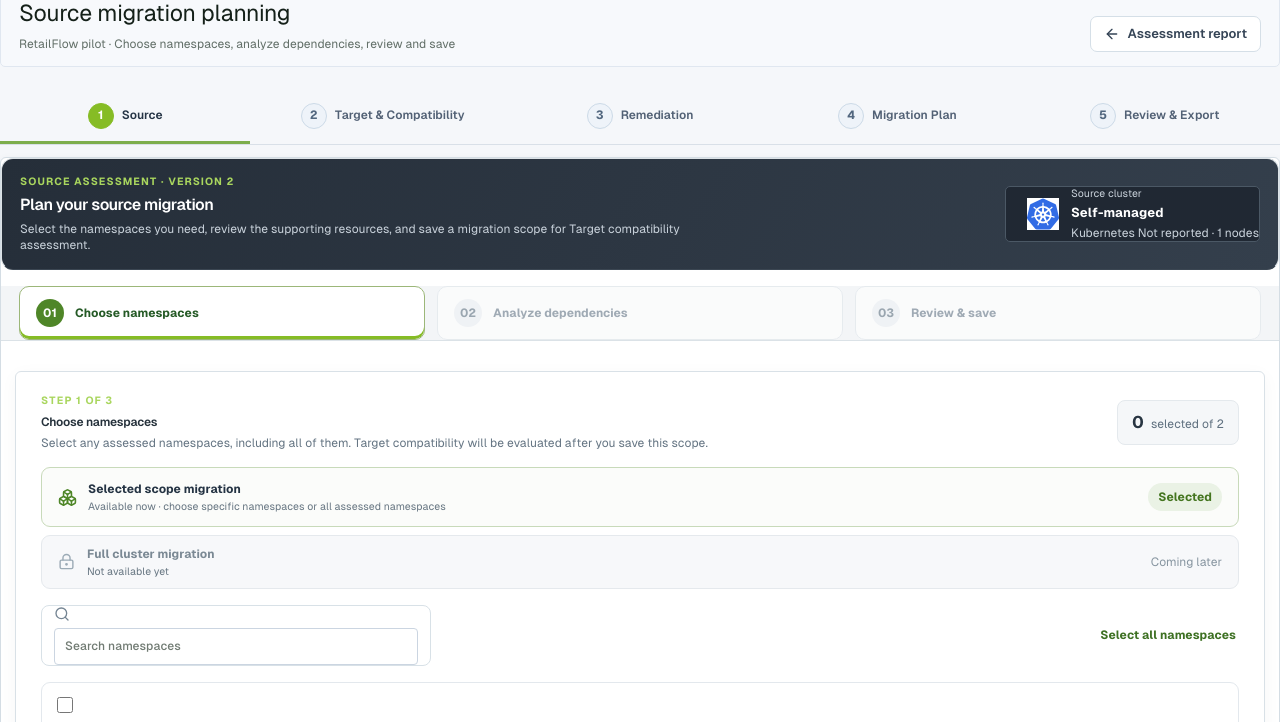
Test case: migration planning › supports analysis of multiple explicitly assessed namespaces
Click the button "Select all namespaces".
click(1168, 635)  # box left=1097, top=621, right=1239, bottom=650
(page scrolled)
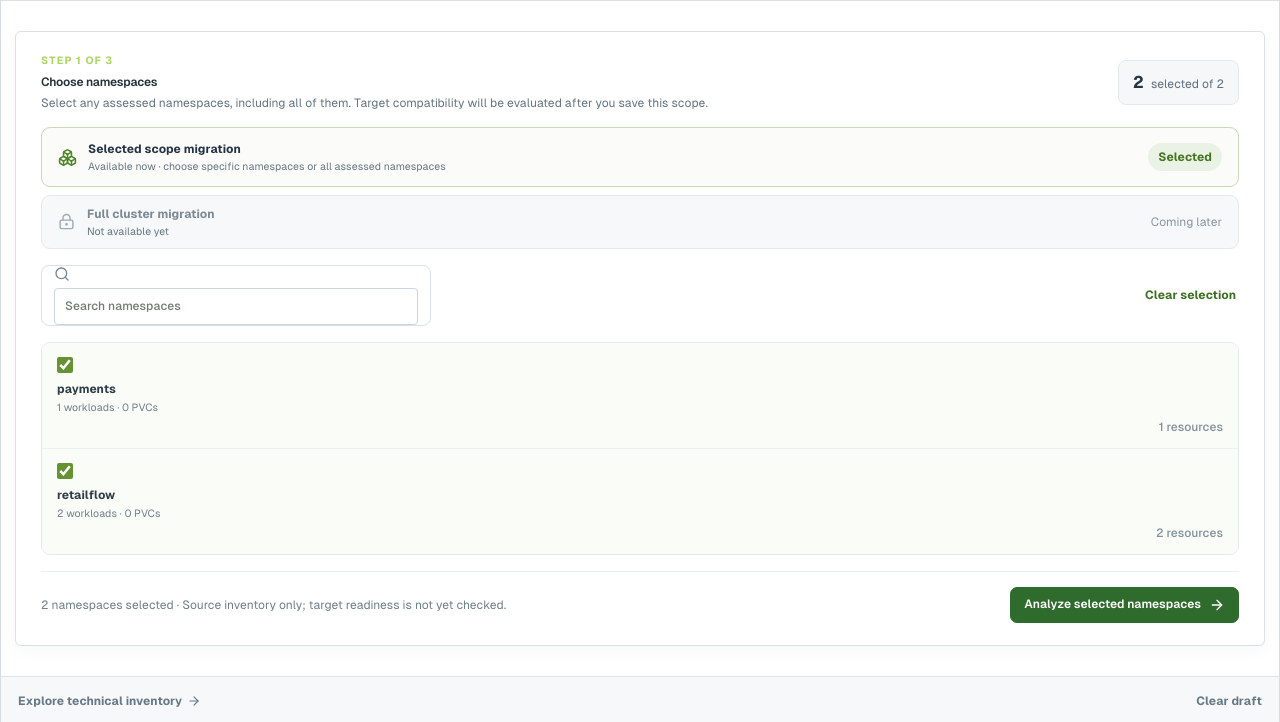
Expected: the text "2 selected of 2" is shown, left=1118, top=60, right=1239, bottom=105
Click the button "Analyze selected namespaces".
click(1125, 605)  # box left=1010, top=587, right=1239, bottom=623
(page scrolled)
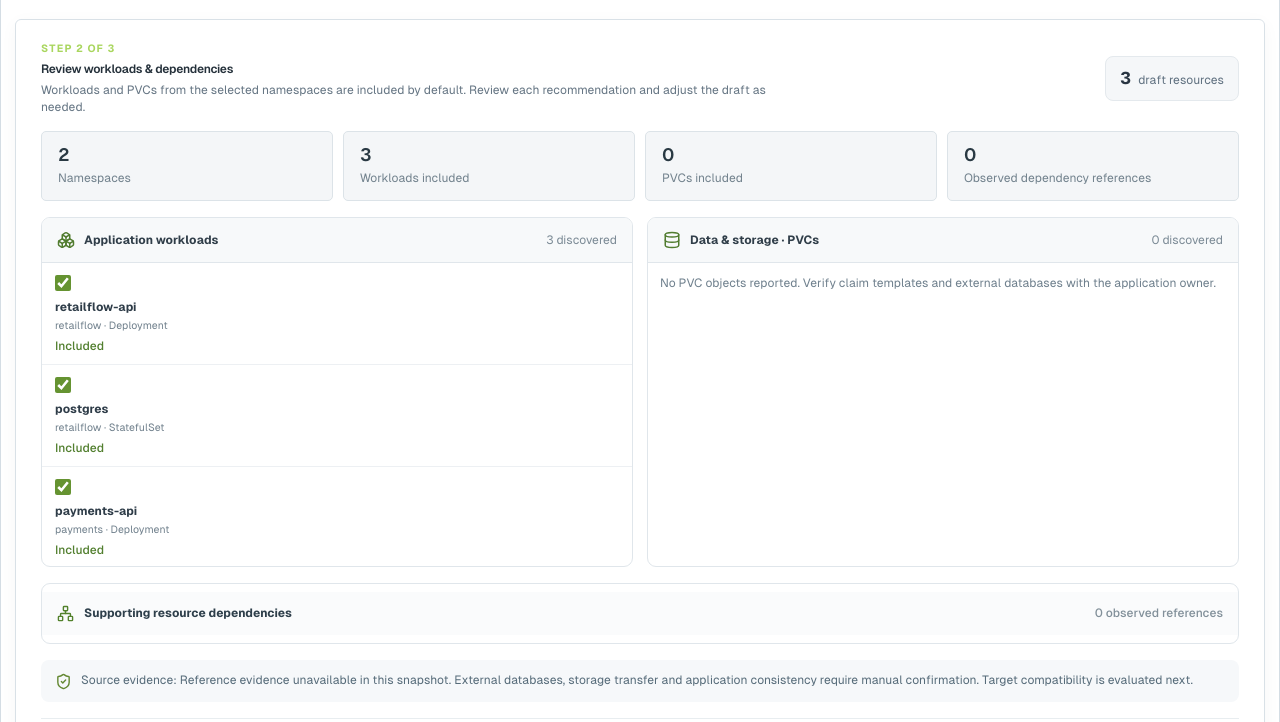
Expected: the heading "Review workloads & dependencies" is shown, left=41, top=62, right=233, bottom=76
